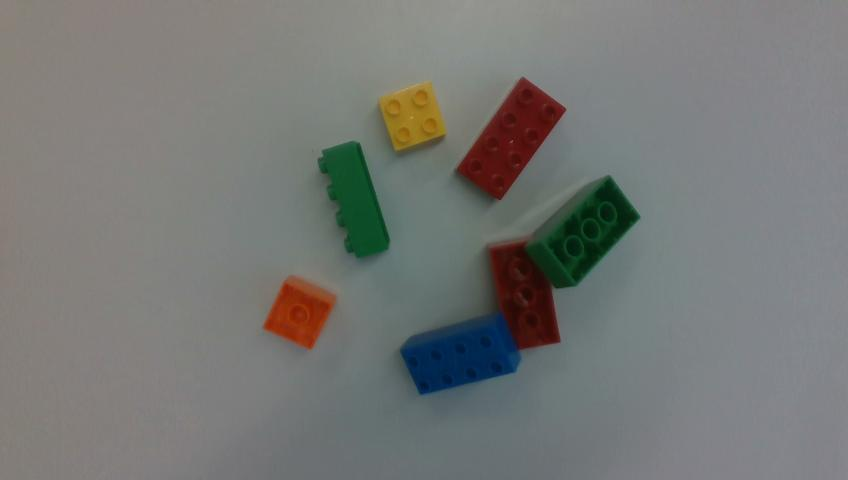2x2_orange: (264, 276, 336, 349)
2x2_yellow: (380, 81, 445, 151)
4x2_blue: (401, 312, 520, 394)
4x2_green: (525, 175, 639, 287), (318, 141, 389, 257)
4x2_red: (457, 78, 565, 198), (488, 237, 558, 349)
